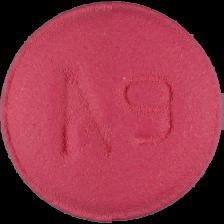68151-1294: (0, 0, 224, 224)
